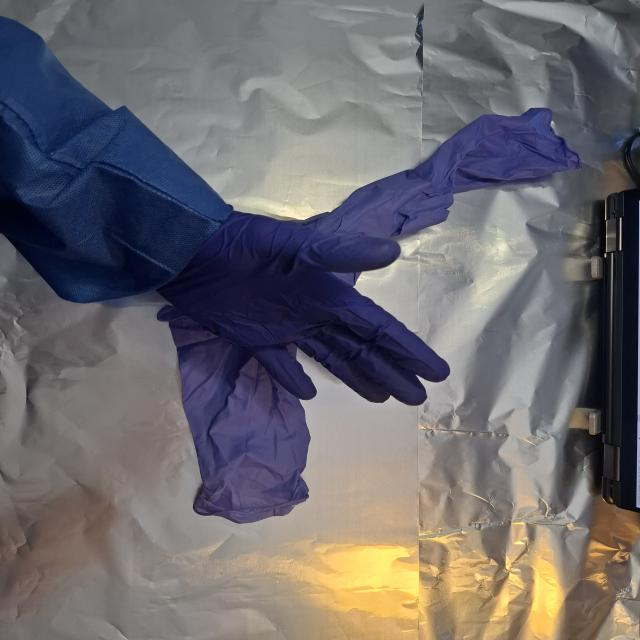glove_on: (152, 206, 454, 409)
